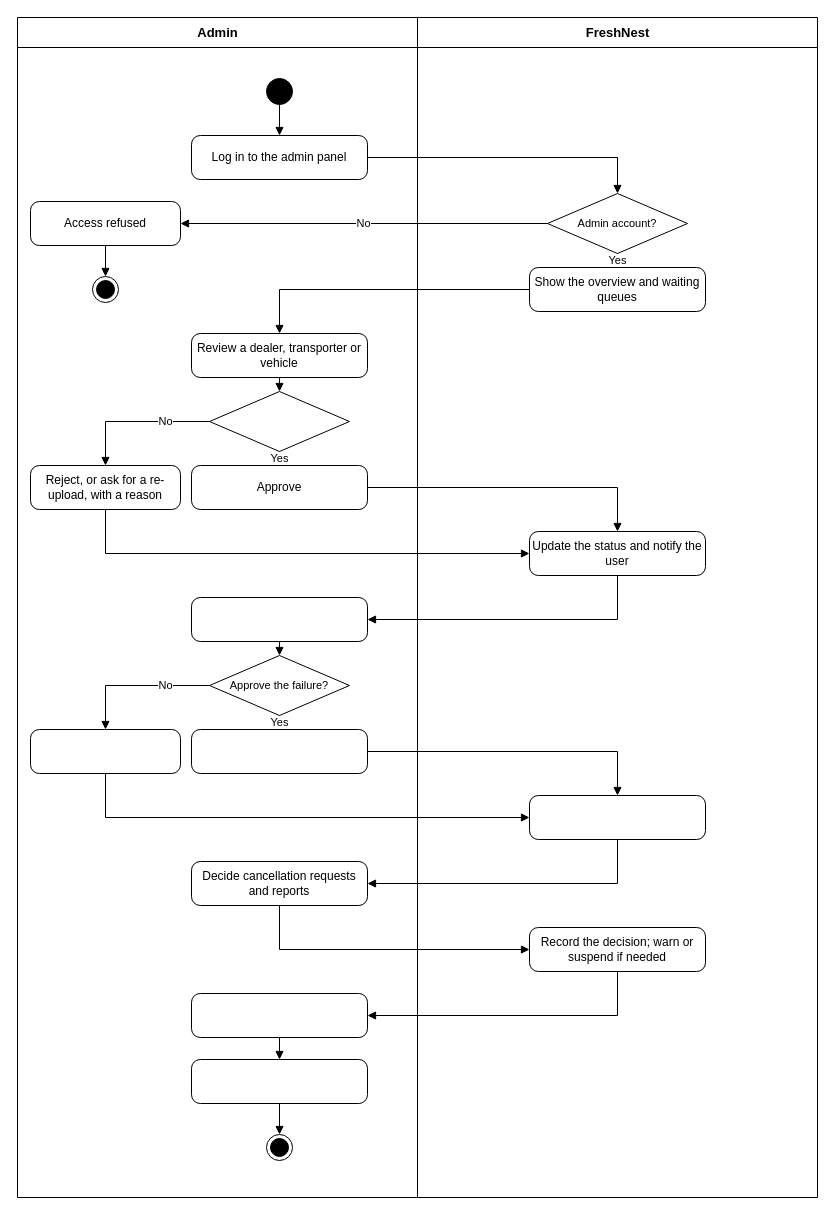
Some shapes in this 835 by 1215 pixel diagram are drawn without their labels. The shapes that lost their labels are listed below. From the top down, each one's centre as x and y in pixels, then its label:
At pixel 279 421: "Documents clear?".
At pixel 279 619: "Review a delivery failure".
At pixel 105 751: "Reject; the driver continues".
At pixel 279 751: "Approve; the emergency sale can start".
At pixel 617 817: "Update the deal and notify everyone".
At pixel 279 1015: "Check analytics and send announcements".
At pixel 279 1081: "Log out".
